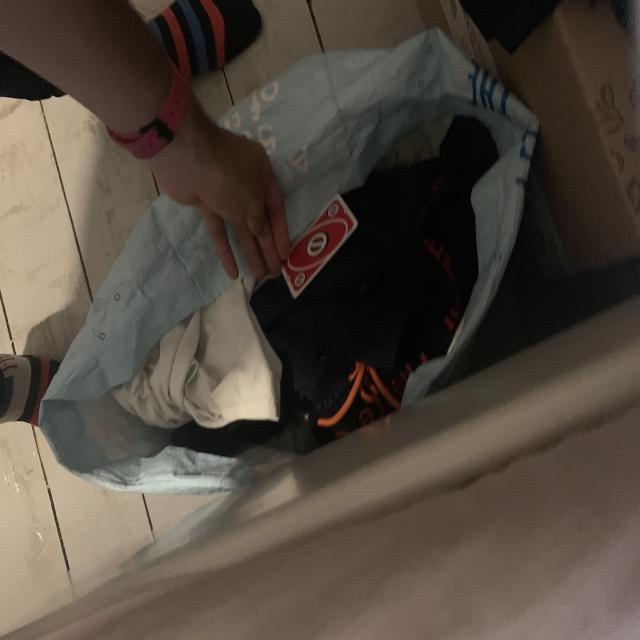lredskip-20: (292, 271, 306, 290)
